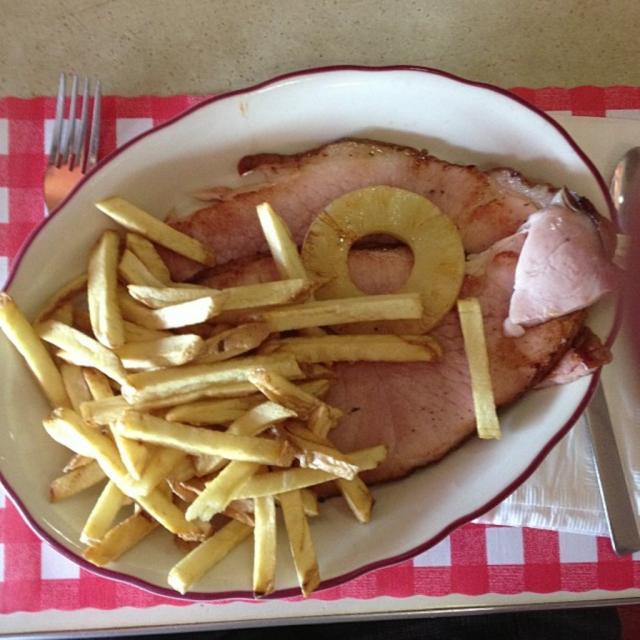French fries: (40, 170, 516, 572)
